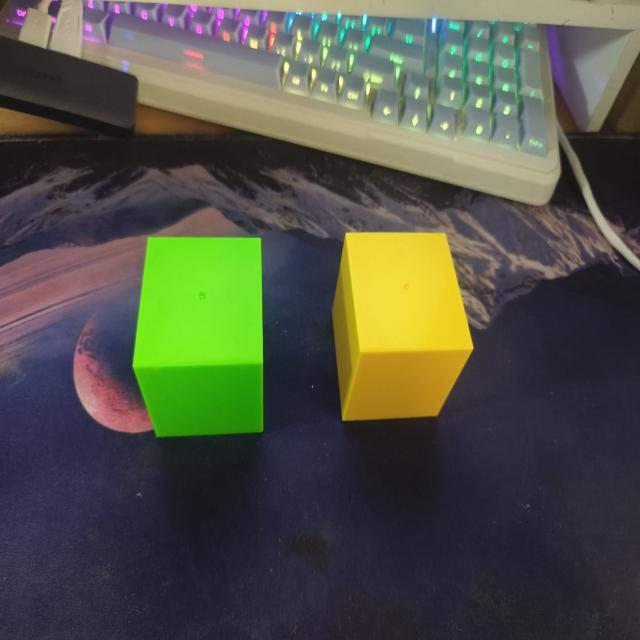green: (125, 230, 275, 445)
yellow: (330, 226, 480, 436)
